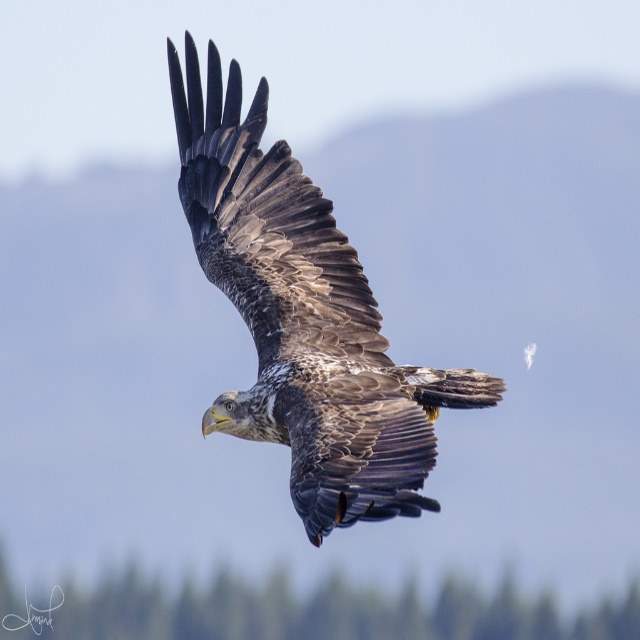Eagle: (166, 30, 509, 547)
